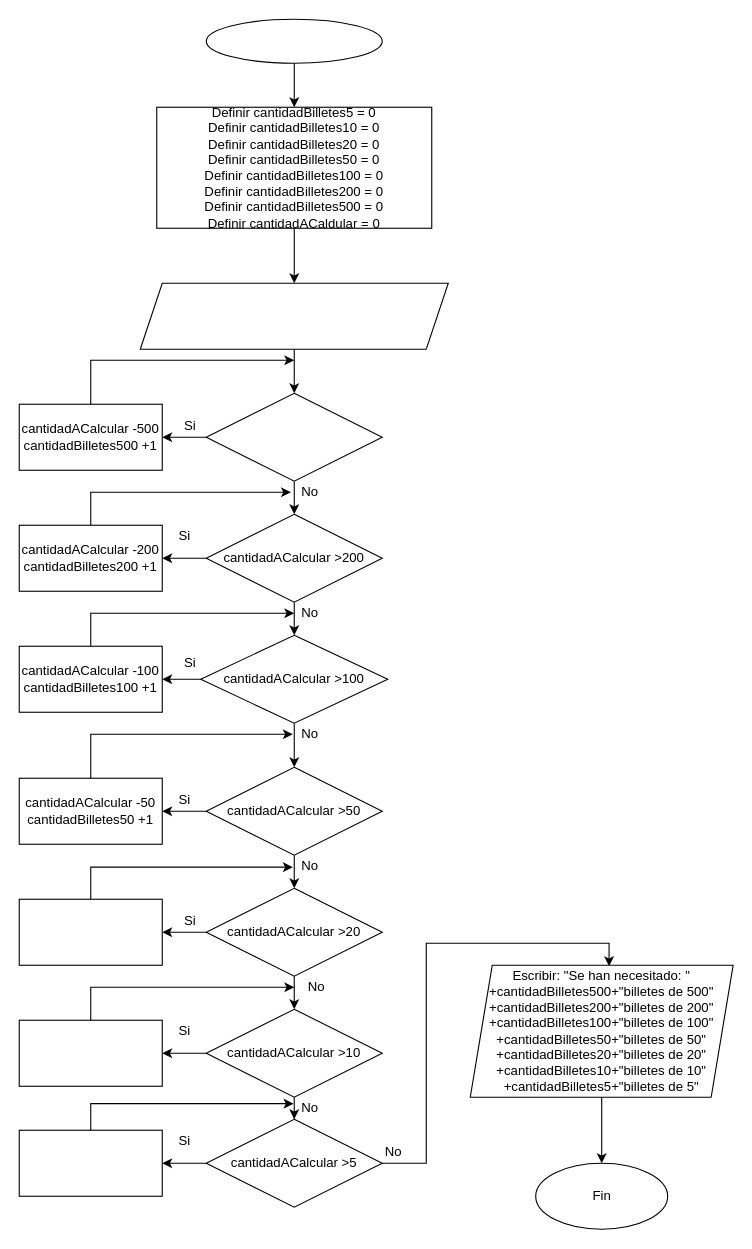
The diagram is 752 pixels wide and 1249 high, and some of its shapes have lost their labels. The shapes that lost their labels are listed below. From the top down, each one's box as (x1, y1, x2, y2) in pixels, then its label:
(205, 18, 382, 63): Inicio
(139, 282, 448, 349): Escribir "Introduzca la cantidad en euros sin centimos:"
(205, 392, 382, 481): cantidadACalcular >500
(18, 898, 162, 965): cantidadACalcular -20 cantidadBilletes20 +1
(18, 1019, 162, 1086): cantidadACalcular -10 cantidadBilletes10 +1
(18, 1129, 162, 1196): cantidadACalcular -5 cantidadBilletes5 +1
